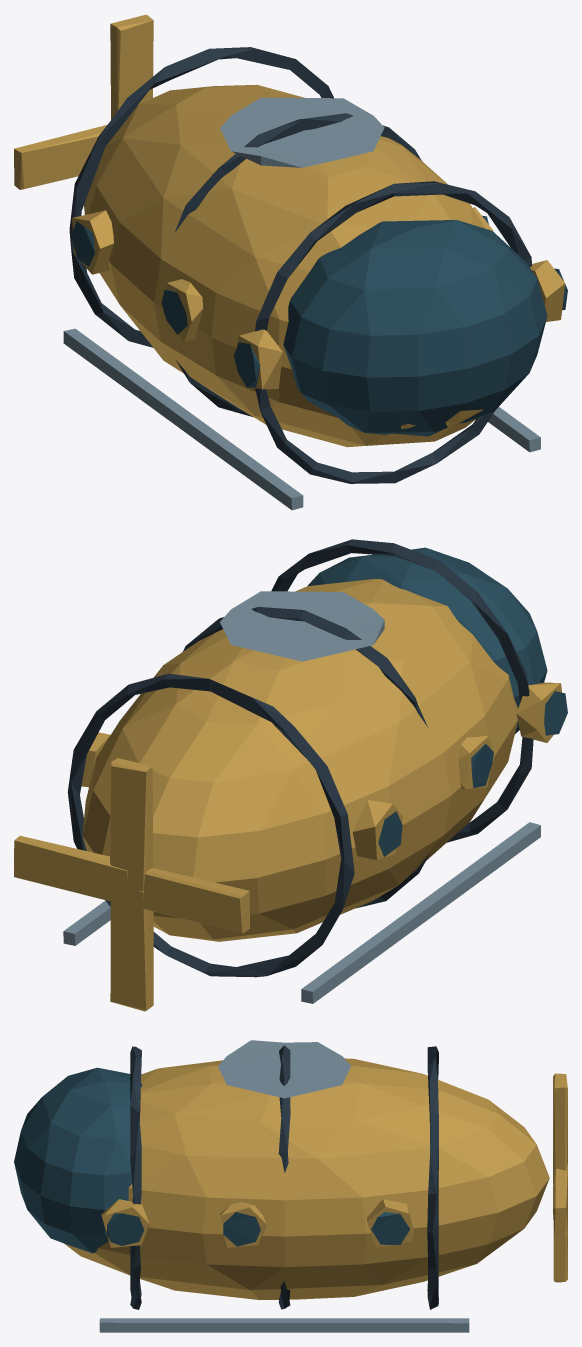
File: submarines-tandem-sub.lod1.glb
3 renders of one model, top to bottom at view 1: azimuth 30°, elevation 25°; view 2: azimuth 150°, elevation 25°; view 3: azimuth 270°, elevation 25°, orthographic. The views are drawn at different scales.
Parts seen in each view (by area): view 1: submarines-tandem-sub__body, submarines-tandem-sub__hatch, submarines-tandem-sub__propeller; view 2: submarines-tandem-sub__body, submarines-tandem-sub__propeller, submarines-tandem-sub__hatch; view 3: submarines-tandem-sub__body, submarines-tandem-sub__hatch, submarines-tandem-sub__propeller.
Part boxes in pixels (left/top/right/bottom): submarines-tandem-sub__body: left=63, top=47, right=567, bottom=510; submarines-tandem-sub__hatch: left=220, top=97, right=384, bottom=167; submarines-tandem-sub__propeller: left=14, top=14, right=153, bottom=189; submarines-tandem-sub__body: left=63, top=539, right=567, bottom=1003; submarines-tandem-sub__propeller: left=14, top=758, right=249, bottom=1011; submarines-tandem-sub__hatch: left=220, top=591, right=384, bottom=661; submarines-tandem-sub__body: left=14, top=1045, right=549, bottom=1332; submarines-tandem-sub__hatch: left=218, top=1040, right=350, bottom=1098; submarines-tandem-sub__propeller: left=553, top=1073, right=567, bottom=1282.
Bounding box in the file's own units: 2.31 × 2.11 × 4.39.
